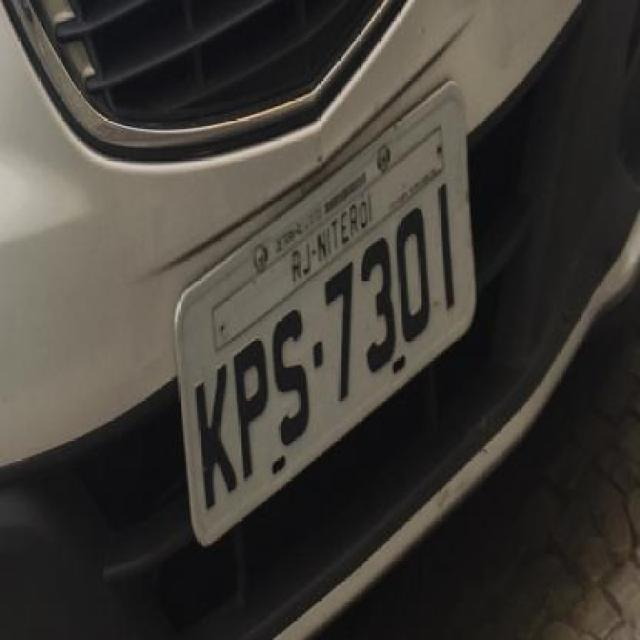old_plate: (166, 68, 484, 556)
